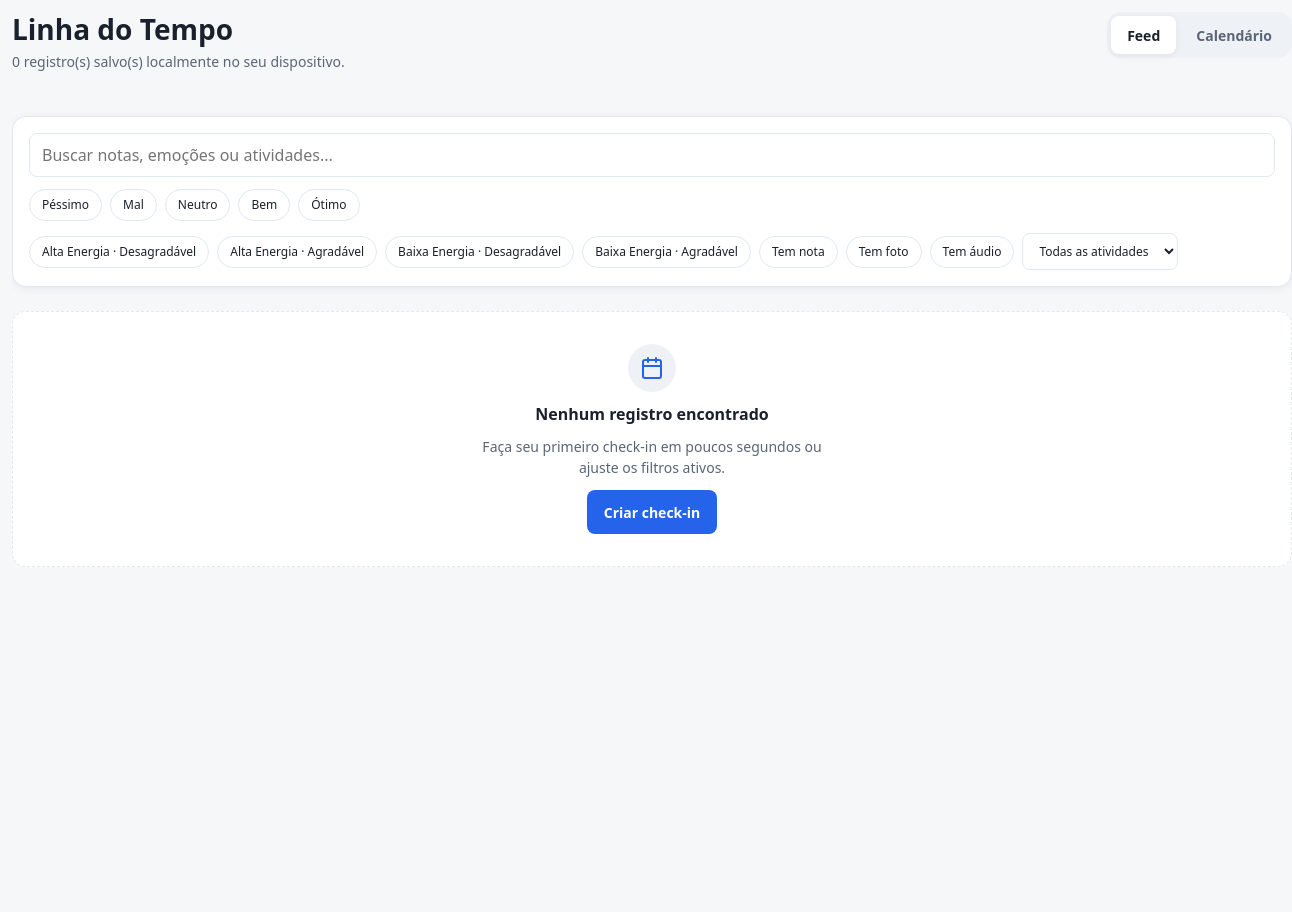
Test: Página Linha do Tempo (TimelinePage) › deve alternar entre visualização Feed e Calendário
Click the tab "Calendário": (1234, 35) left=1180, top=16, right=1288, bottom=54
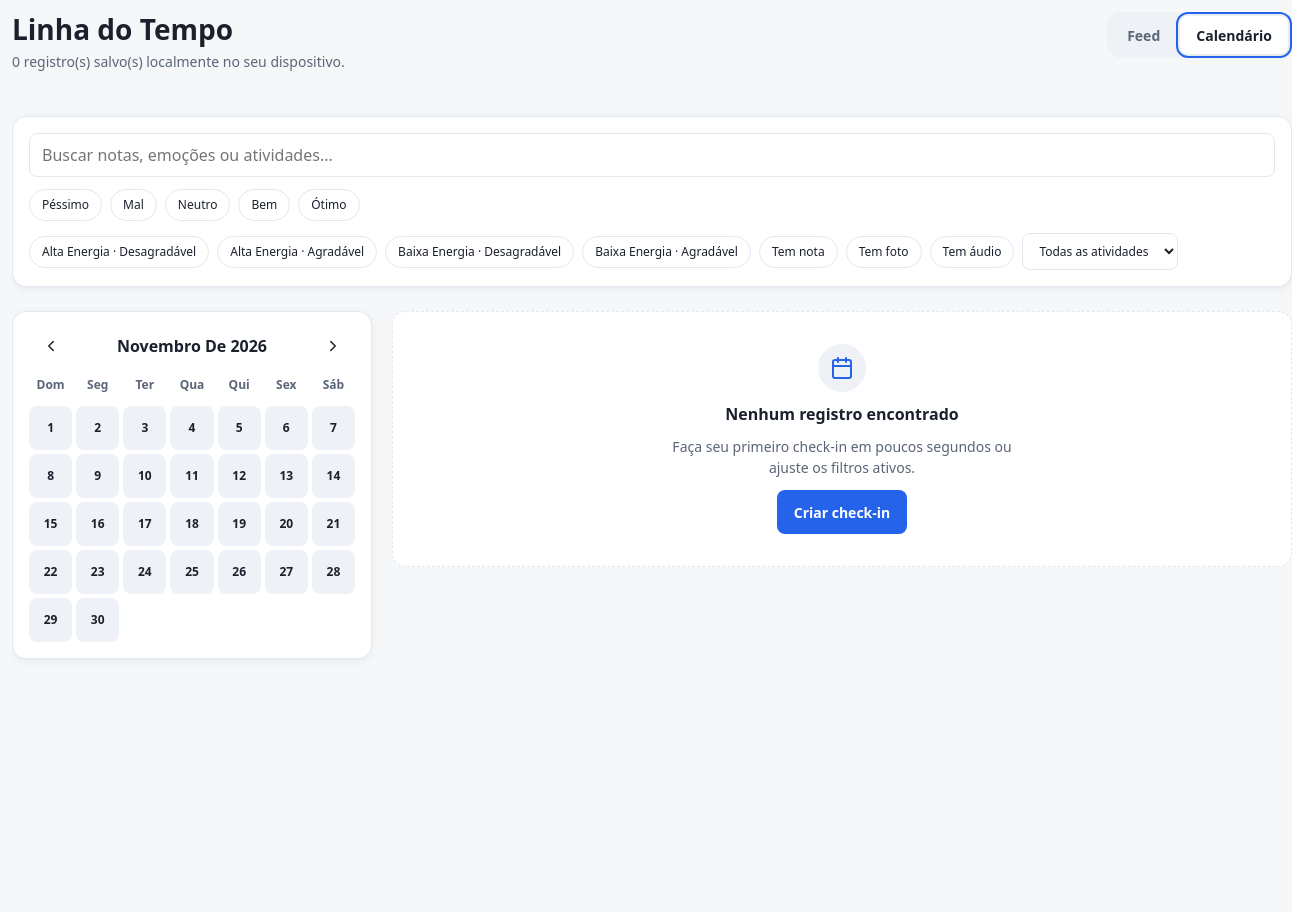
Expected: the text "Dom" is shown, left=36, top=376, right=65, bottom=393
